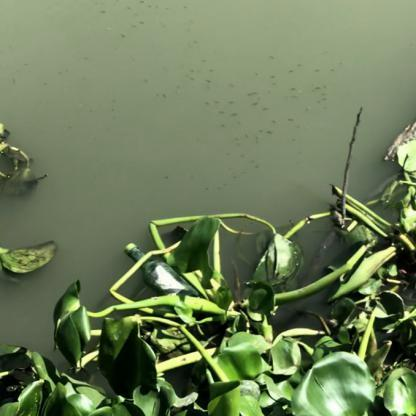Glass: (123, 240, 206, 309)
